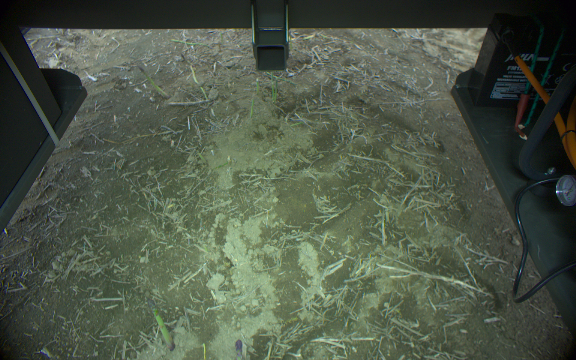aspa: (145, 298, 177, 352), (134, 64, 170, 100), (170, 35, 210, 48), (234, 338, 245, 360)
